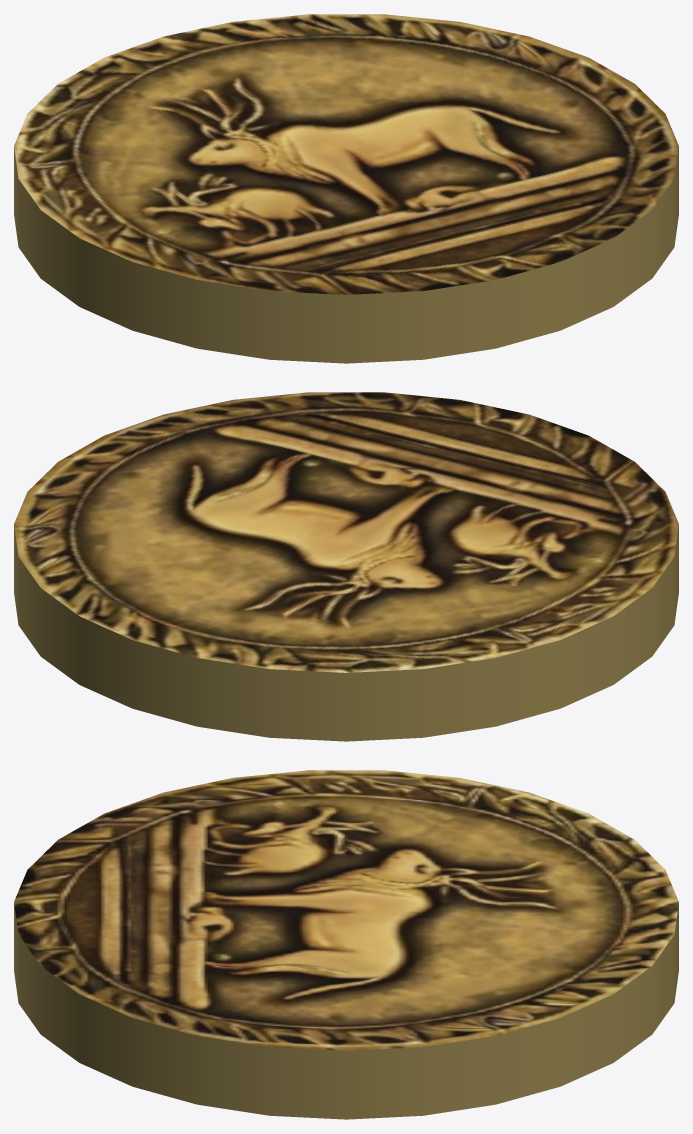
Rendered from Coin 3.fbx.
The picture shows the model from 3 angles, top to bottom: view 1: azimuth 30°, elevation 25°; view 2: azimuth 150°, elevation 25°; view 3: azimuth 270°, elevation 25°; orthographic projection.
Visible parts, largest first — view 1: polySurface19; view 2: polySurface19; view 3: polySurface19.
Part boxes in pixels (x1=…): polySurface19: x1=14, y1=14, x2=678, y2=363; polySurface19: x1=14, y1=392, x2=678, y2=741; polySurface19: x1=14, y1=770, x2=678, y2=1119.
Size of the model in its own units: 7.82 by 0.8921 by 7.83.
